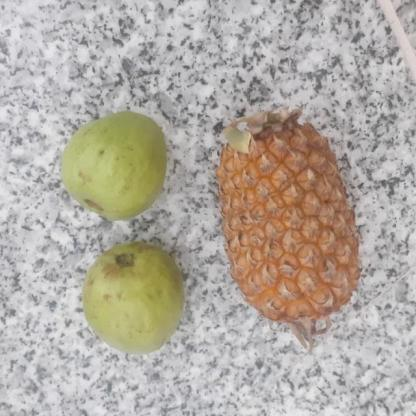guava: (77, 250, 186, 352), (57, 116, 166, 216)
pineapple: (214, 115, 358, 328)
